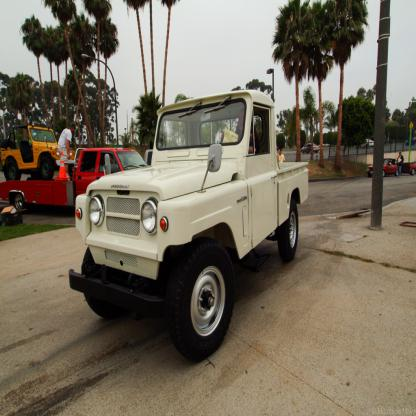Car: (367, 160, 400, 176), (358, 138, 375, 148), (301, 144, 320, 152)
